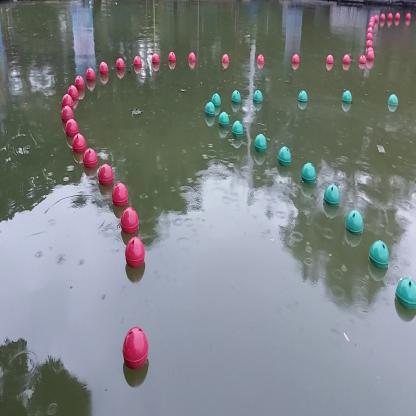green_buoy: (396, 276, 416, 315), (369, 241, 388, 275), (346, 210, 364, 243), (301, 162, 317, 188), (323, 186, 340, 210), (278, 146, 292, 169), (386, 92, 400, 114), (297, 84, 309, 109), (250, 90, 264, 110), (205, 100, 216, 124), (340, 92, 352, 113), (254, 134, 266, 154), (231, 120, 242, 141), (219, 110, 229, 132), (232, 91, 242, 111), (212, 94, 222, 112)
red_buoy: (122, 326, 148, 371), (120, 203, 138, 239), (127, 236, 145, 272), (112, 180, 129, 211), (99, 164, 115, 190), (72, 72, 84, 100), (84, 150, 98, 172), (99, 58, 109, 87), (115, 56, 126, 82), (62, 105, 74, 128), (74, 134, 86, 156), (66, 121, 78, 142), (85, 66, 95, 91), (67, 84, 78, 105), (61, 92, 72, 113), (150, 53, 160, 74), (166, 50, 176, 70), (132, 54, 142, 74), (340, 53, 351, 70), (186, 51, 196, 68), (324, 54, 334, 70), (255, 53, 264, 70), (291, 54, 300, 71), (366, 49, 374, 66), (358, 53, 366, 68), (221, 53, 228, 70), (404, 11, 412, 24), (365, 38, 374, 49), (387, 11, 393, 25), (379, 12, 386, 23), (394, 12, 401, 23), (368, 18, 375, 28), (366, 30, 373, 40), (374, 15, 379, 26)
